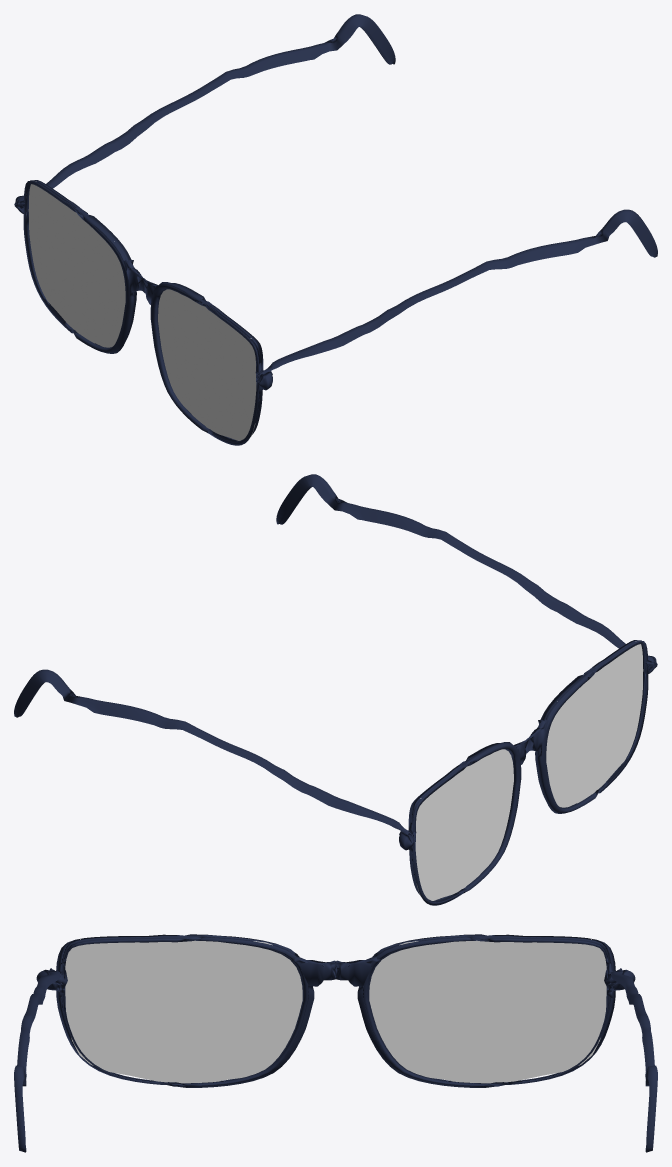
The model's file is sunglasses.gltf.
The picture shows the model from 3 angles, top to bottom: view 1: azimuth 30°, elevation 25°; view 2: azimuth 150°, elevation 25°; view 3: azimuth 270°, elevation 25°; orthographic projection. The views are drawn at different scales.
Visible parts, largest first — view 1: Sunglasses Try; view 2: Sunglasses Try; view 3: Sunglasses Try.
Part boxes in pixels (bbox=[...]): Sunglasses Try: bbox=[14, 14, 657, 445]; Sunglasses Try: bbox=[14, 474, 657, 905]; Sunglasses Try: bbox=[14, 934, 657, 1152].
Bounding box in the file's own units: 3.38 × 1.55 × 4.06.
